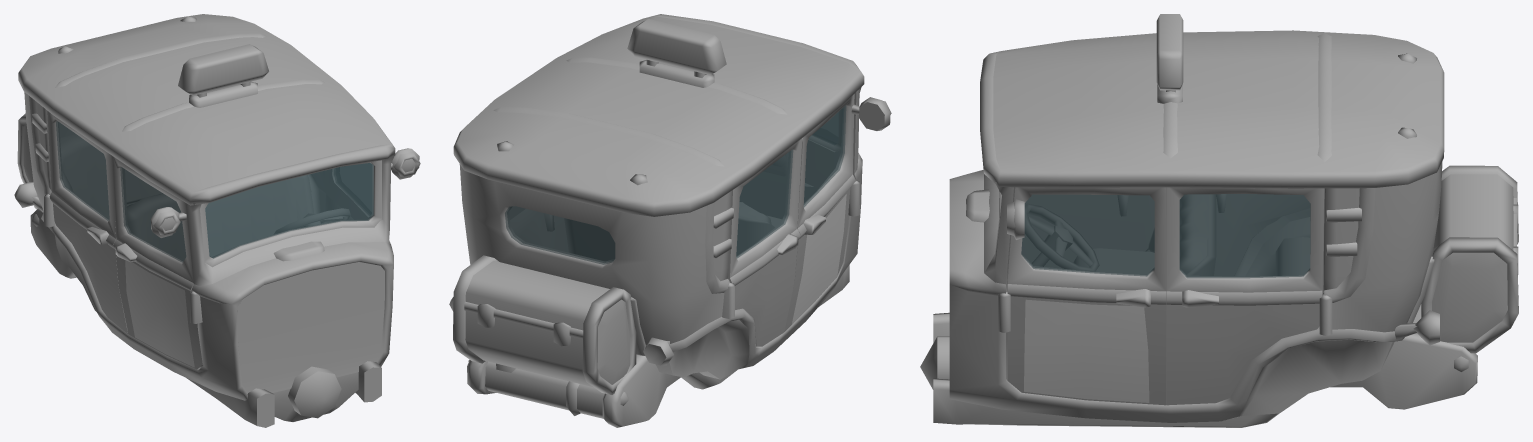
Rendered from Body_Citro.fbx.
3 views of the same model, side by side, from view 1: azimuth 30°, elevation 25°; view 2: azimuth 150°, elevation 25°; view 3: azimuth 270°, elevation 25° (orthographic). The views are drawn at different scales.
Visible parts, largest first — view 1: Body_Citro_Mesh, Body_Citro_Window_Mesh, Citro_Door_Right_Back_Mesh, Citro_Door_Right_Mesh, Citro_Door_Right_Decal_Mesh, Top_Taxi_Sign_Mesh, Citro_Door_Right_Back_Window_Mesh, Citro_Door_Right_Window_Mesh, Citro_Door_Left_Mesh, Citro_Door_Left_Window_Mesh, Box_Rear_Dark_Mesh, Body_SteerWheel_Mesh; view 2: Body_Citro_Mesh, Box_Rear_Dark_Mesh, Citro_Door_Right_Back_Mesh, Citro_Door_Right_Mesh, Top_Taxi_Sign_Mesh, Body_Citro_Window_Mesh, Citro_Door_Right_Back_Window_Mesh, Citro_Door_Right_Decal_Mesh, Citro_Door_Right_Window_Mesh, Citro_Door_Left_Back_Mesh; view 3: Body_Citro_Mesh, Citro_Door_Left_Back_Mesh, Box_Rear_Dark_Mesh, Citro_Door_Left_Mesh, Citro_Door_Left_Decal_Mesh, Citro_Door_Left_Back_Window_Mesh, Citro_Door_Left_Window_Mesh, Citro_Door_Right_Mesh, Citro_Door_Right_Back_Mesh, Body_SteerWheel_Mesh, Top_Taxi_Sign_Mesh.
Boxes of the visible parts, x1=… form: Body_Citro_Mesh: x1=14, y1=14, x2=395, y2=427; Body_Citro_Window_Mesh: x1=205, y1=163, x2=373, y2=258; Citro_Door_Right_Back_Mesh: x1=47, y1=111, x2=127, y2=333; Citro_Door_Right_Mesh: x1=111, y1=155, x2=203, y2=369; Citro_Door_Right_Decal_Mesh: x1=125, y1=260, x2=194, y2=367; Top_Taxi_Sign_Mesh: x1=178, y1=44, x2=268, y2=107; Citro_Door_Right_Back_Window_Mesh: x1=56, y1=121, x2=109, y2=220; Citro_Door_Right_Window_Mesh: x1=120, y1=167, x2=186, y2=262; Citro_Door_Left_Mesh: x1=325, y1=148, x2=420, y2=219; Citro_Door_Left_Window_Mesh: x1=335, y1=163, x2=371, y2=214; Box_Rear_Dark_Mesh: x1=17, y1=113, x2=37, y2=209; Body_SteerWheel_Mesh: x1=274, y1=208, x2=350, y2=233; Body_Citro_Mesh: x1=449, y1=14, x2=864, y2=427; Box_Rear_Dark_Mesh: x1=453, y1=255, x2=636, y2=394; Citro_Door_Right_Back_Mesh: x1=728, y1=138, x2=802, y2=346; Citro_Door_Right_Mesh: x1=784, y1=94, x2=891, y2=331; Top_Taxi_Sign_Mesh: x1=627, y1=19, x2=726, y2=87; Body_Citro_Window_Mesh: x1=505, y1=113, x2=837, y2=264; Citro_Door_Right_Back_Window_Mesh: x1=736, y1=149, x2=793, y2=258; Citro_Door_Right_Decal_Mesh: x1=792, y1=194, x2=846, y2=323; Citro_Door_Right_Window_Mesh: x1=803, y1=105, x2=846, y2=207; Citro_Door_Left_Back_Mesh: x1=509, y1=206, x2=568, y2=252; Body_Citro_Mesh: x1=920, y1=30, x2=1477, y2=427; Citro_Door_Left_Back_Mesh: x1=1166, y1=187, x2=1324, y2=405; Box_Rear_Dark_Mesh: x1=1421, y1=165, x2=1518, y2=353; Citro_Door_Left_Mesh: x1=1006, y1=187, x2=1165, y2=405; Citro_Door_Left_Decal_Mesh: x1=1024, y1=299, x2=1149, y2=402; Citro_Door_Left_Back_Window_Mesh: x1=1179, y1=194, x2=1310, y2=278; Citro_Door_Left_Window_Mesh: x1=1021, y1=194, x2=1154, y2=276; Citro_Door_Right_Mesh: x1=1021, y1=194, x2=1154, y2=268; Citro_Door_Right_Back_Mesh: x1=1214, y1=194, x2=1309, y2=275; Body_SteerWheel_Mesh: x1=1025, y1=204, x2=1099, y2=271; Top_Taxi_Sign_Mesh: x1=1156, y1=14, x2=1183, y2=103.
Size of the model in its own units: 192 by 205 by 302.
